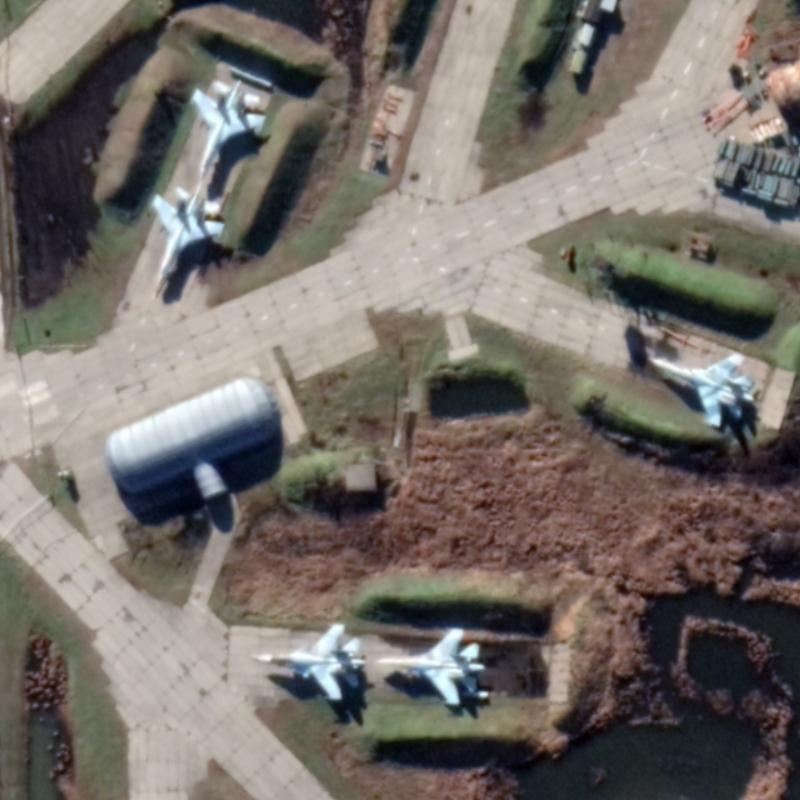A1: (374, 624, 486, 707), (645, 348, 756, 429), (150, 183, 226, 301), (187, 76, 267, 182)
A19: (249, 620, 367, 702)
